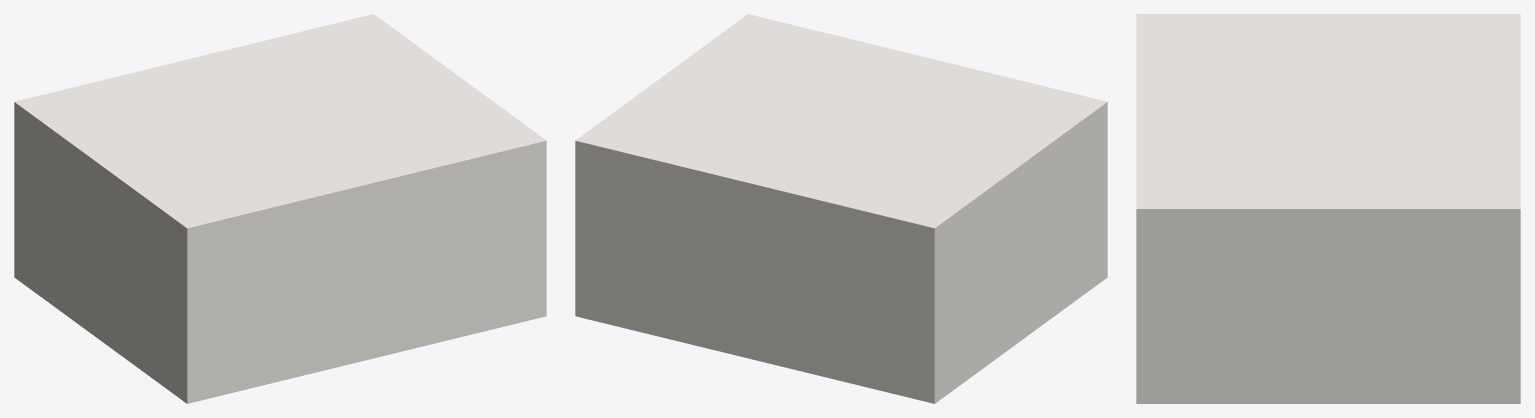
The model's file is escena-demo.optimized.glb.
The picture shows the model from 3 angles, left to right: view 1: azimuth 30°, elevation 25°; view 2: azimuth 150°, elevation 25°; view 3: azimuth 270°, elevation 25°; orthographic projection. The views are drawn at different scales.
Visible parts, largest first — view 1: Piso; view 2: Piso; view 3: Piso.
Boxes of the visible parts, <box> form: Piso: <box>14,14,546,403</box>; Piso: <box>575,14,1107,403</box>; Piso: <box>1136,14,1520,403</box>.
Size of the model in its own units: 6 by 2.8 by 5.
1 material, 1 textured.
